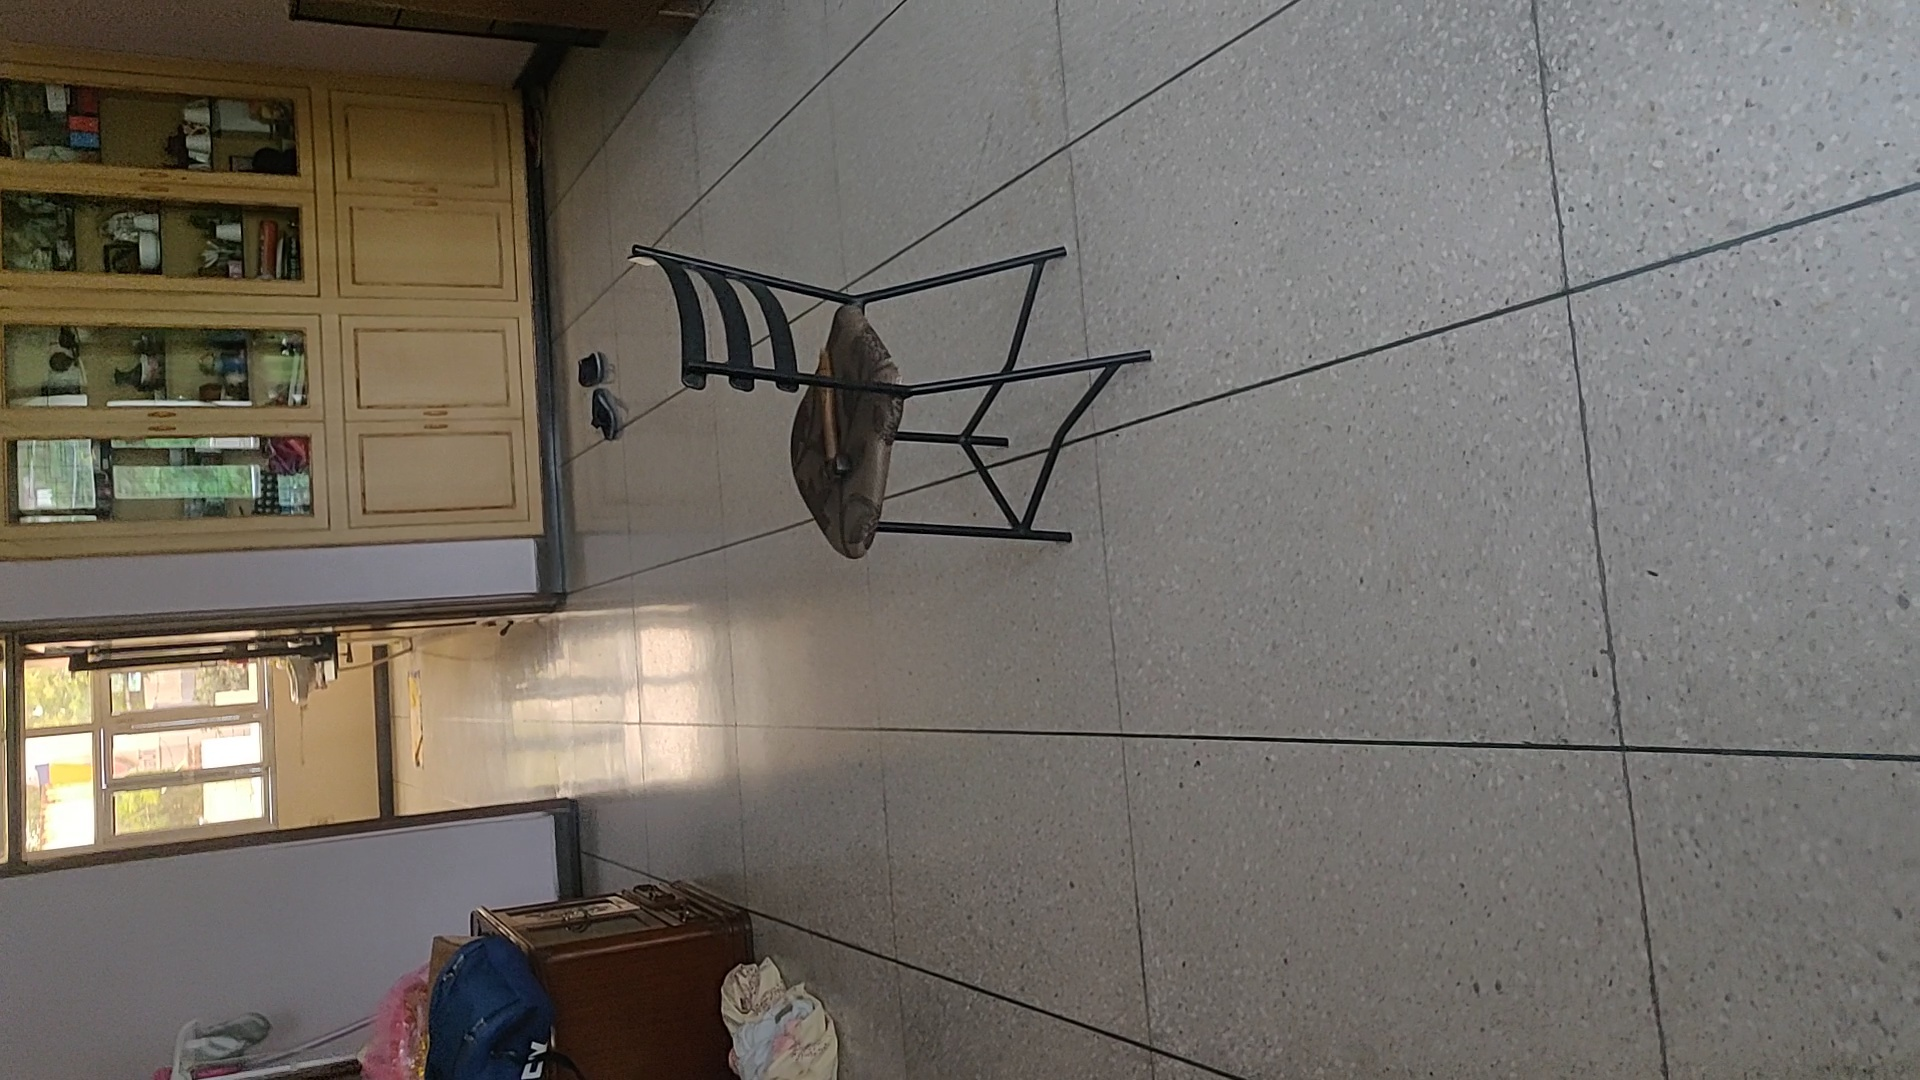hammer: (812, 345, 855, 483)
